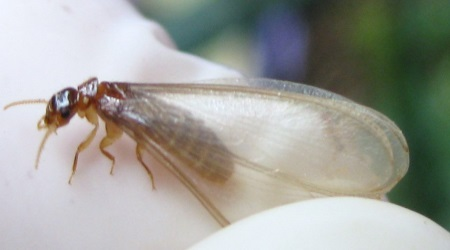flying termite: (2, 60, 413, 227)
